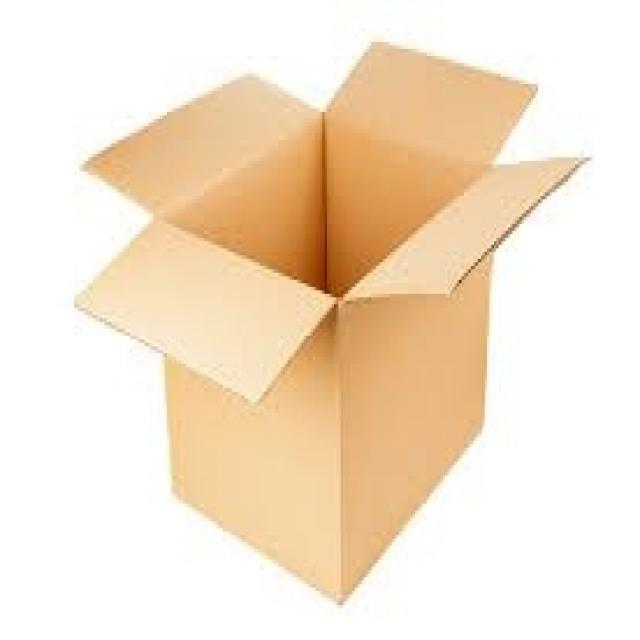cardboard paper: (76, 42, 578, 597)
